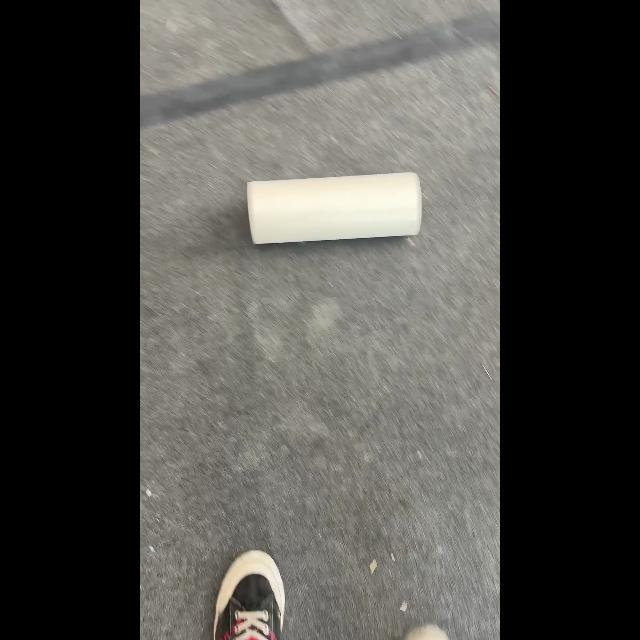CORAL: (246, 171, 422, 245)
